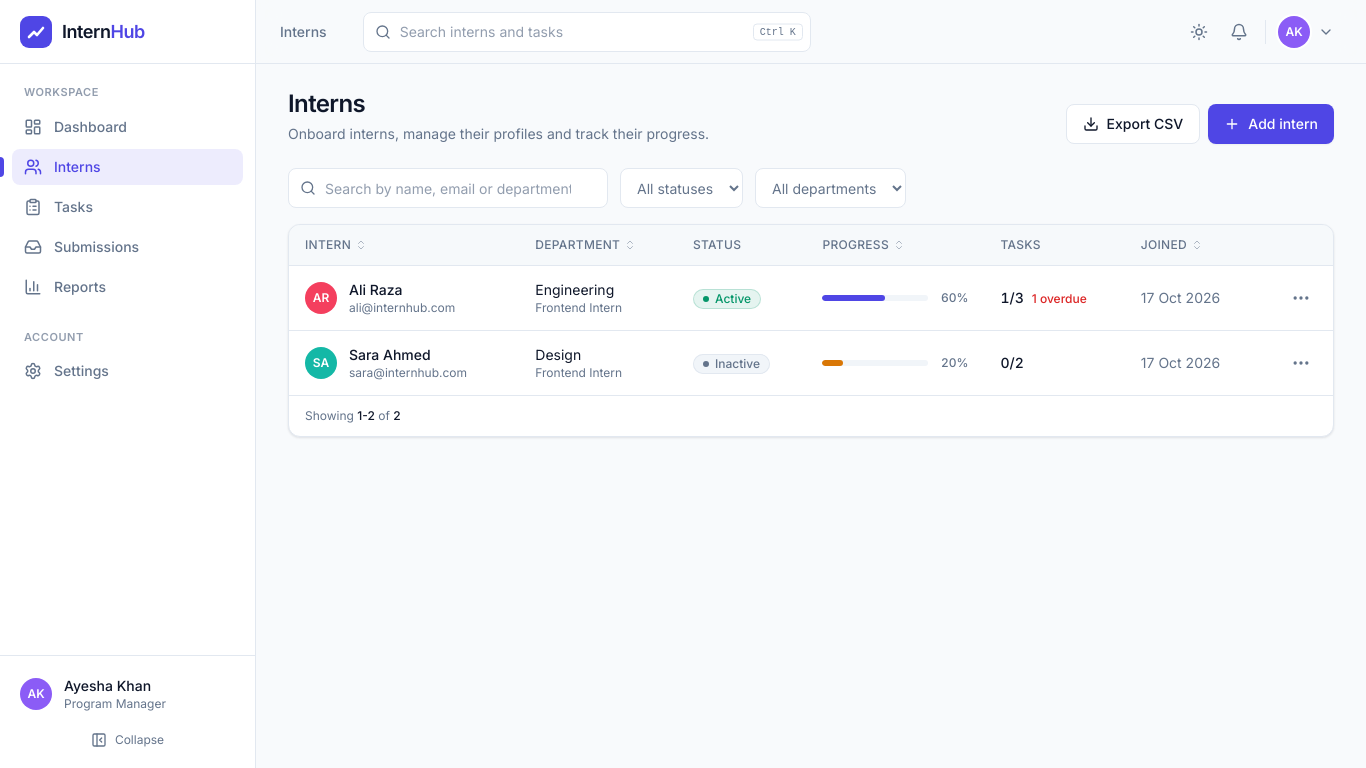
Scenario: interns page › validates the add-intern form, creates the intern and reveals the temporary password once
Click the button "Add intern": point(1271, 124) [1208,104,1334,144]
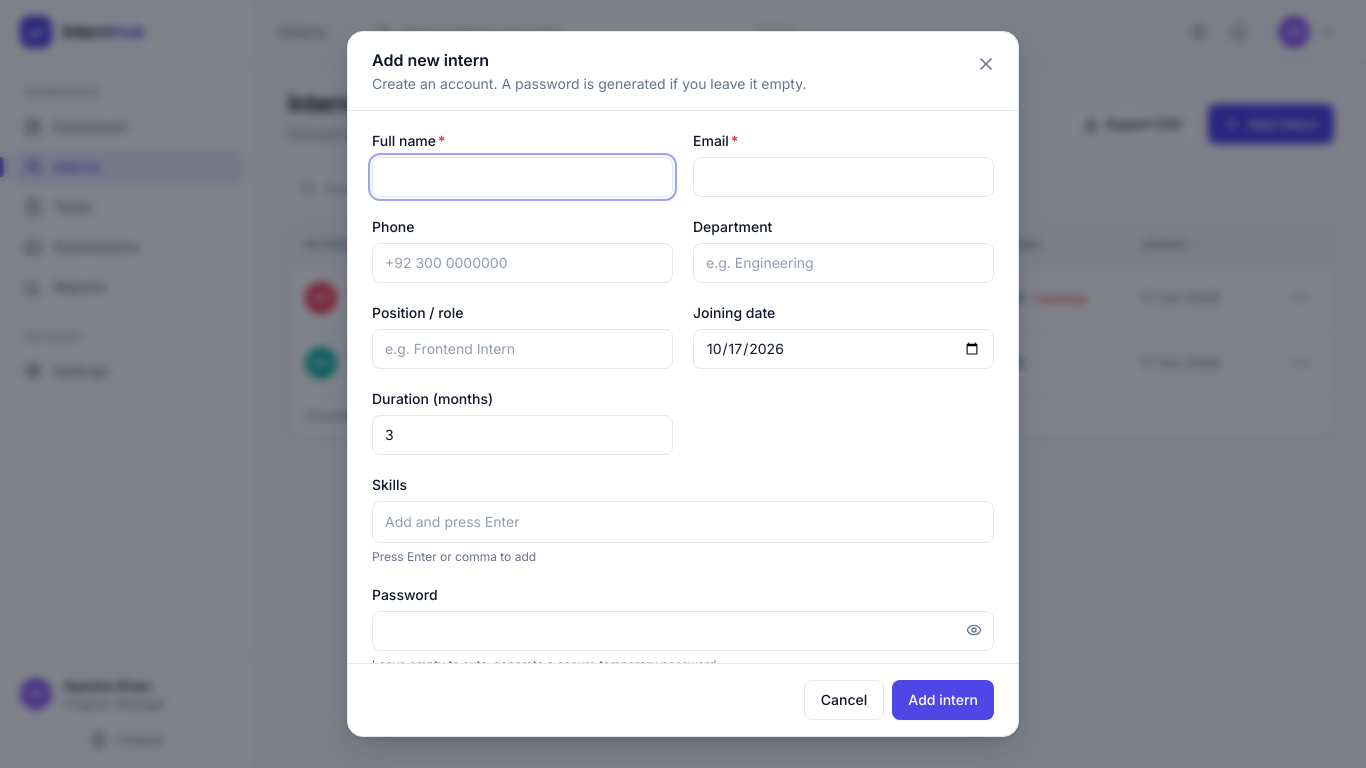
Click the button "Add intern": point(943, 700) [892,680,994,720]
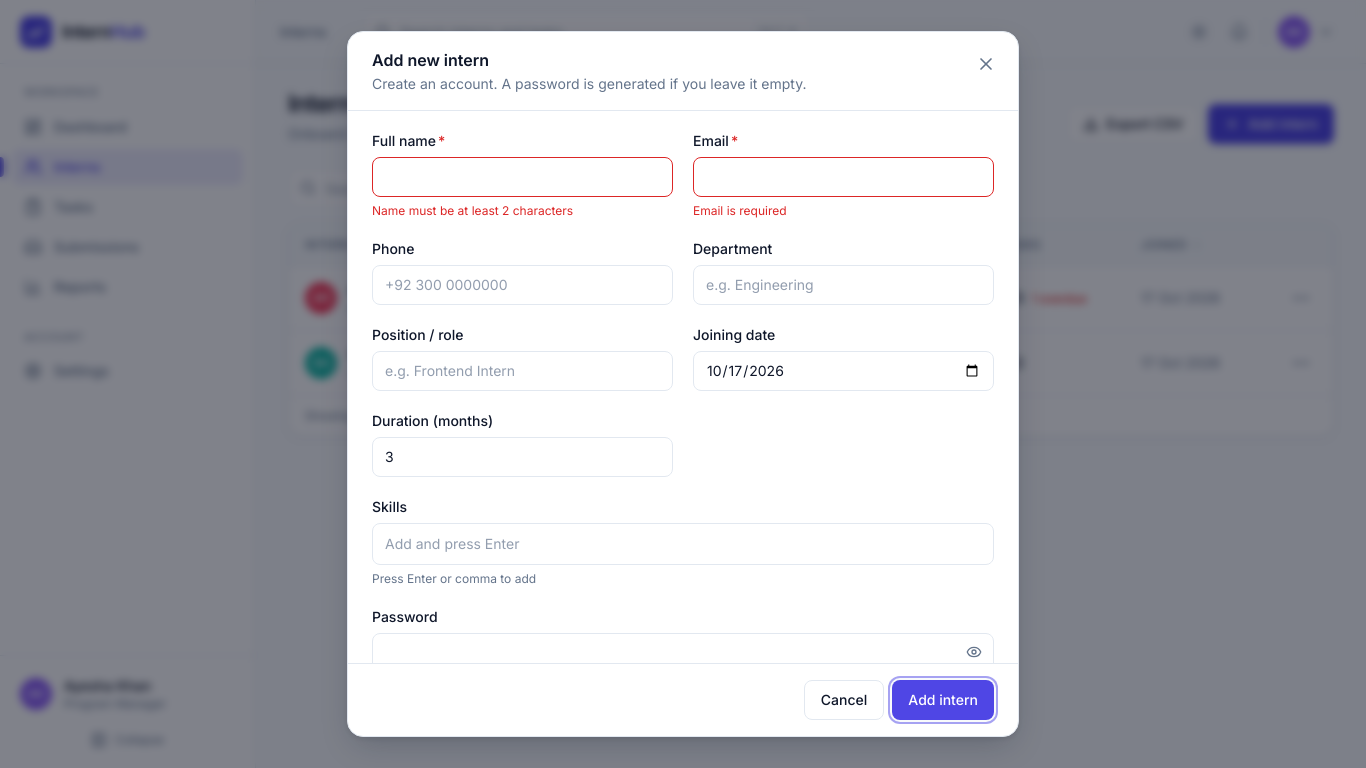
Now the text "Name must be at least 2 characters" is shown, box [372,203,573,218]
Now the text "Email is required" is shown, box [693,203,787,218]
In the field labelled "Full name*": point(522, 177) [372,157,673,197], type "Zed Khan"
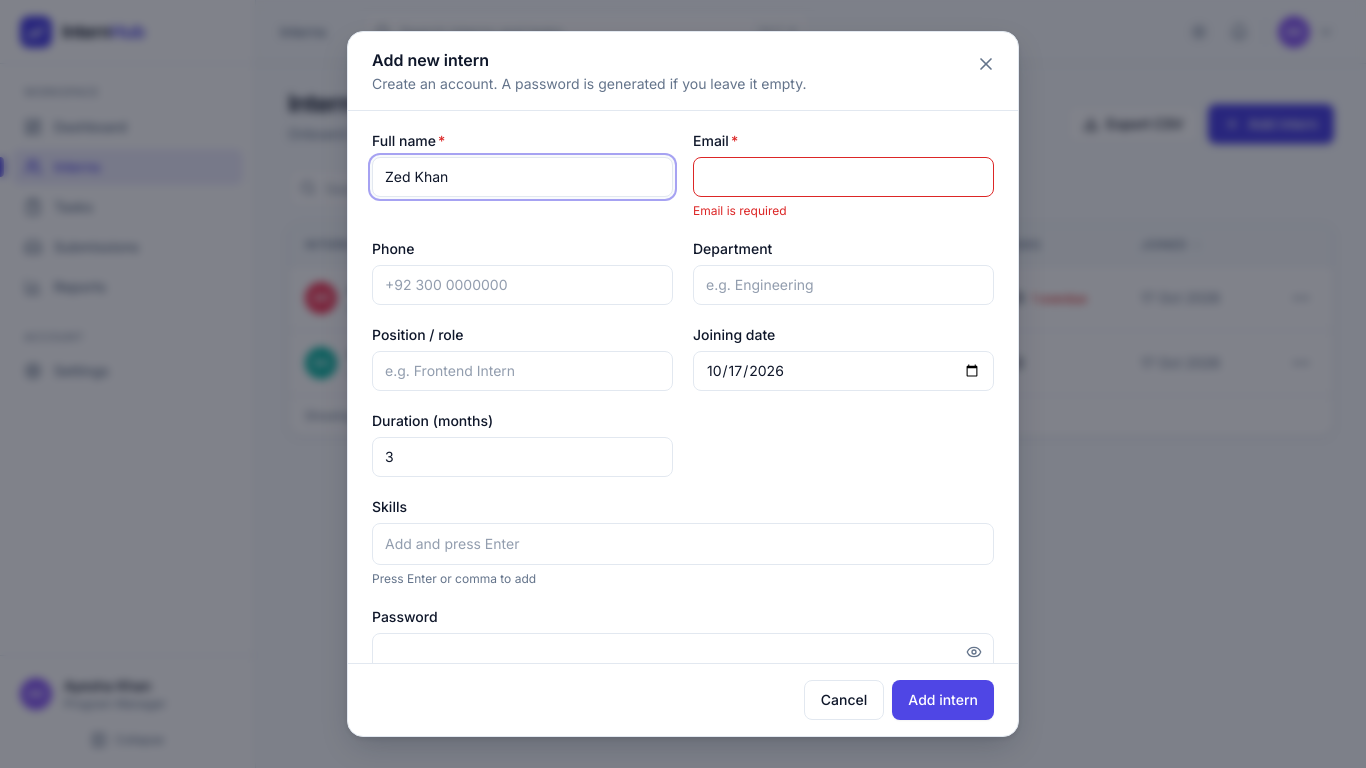
In the field labelled "Email*": point(844, 177) [693,157,994,197], type "zed@internhub.com"
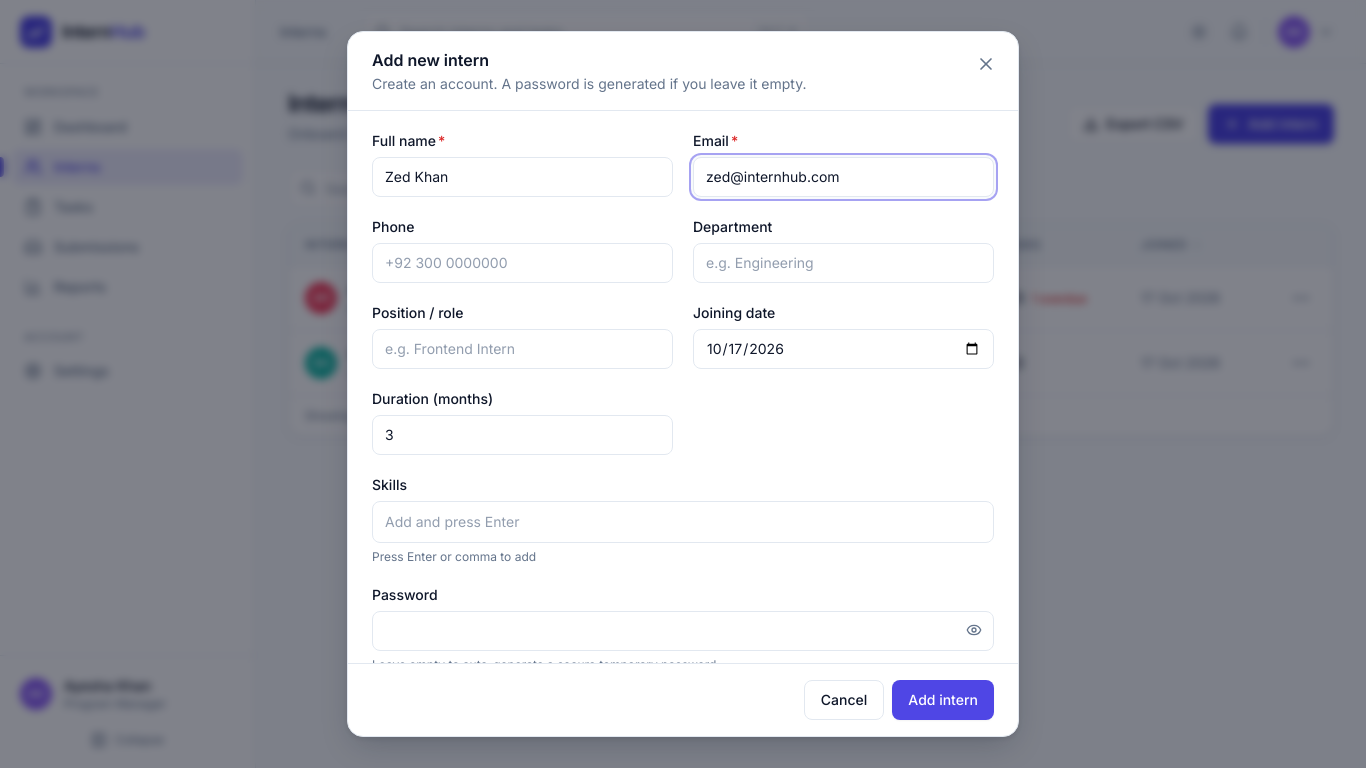
In the field labelled "Skills": point(683, 522) [379,508,987,536], type "Node"
Then press Enter
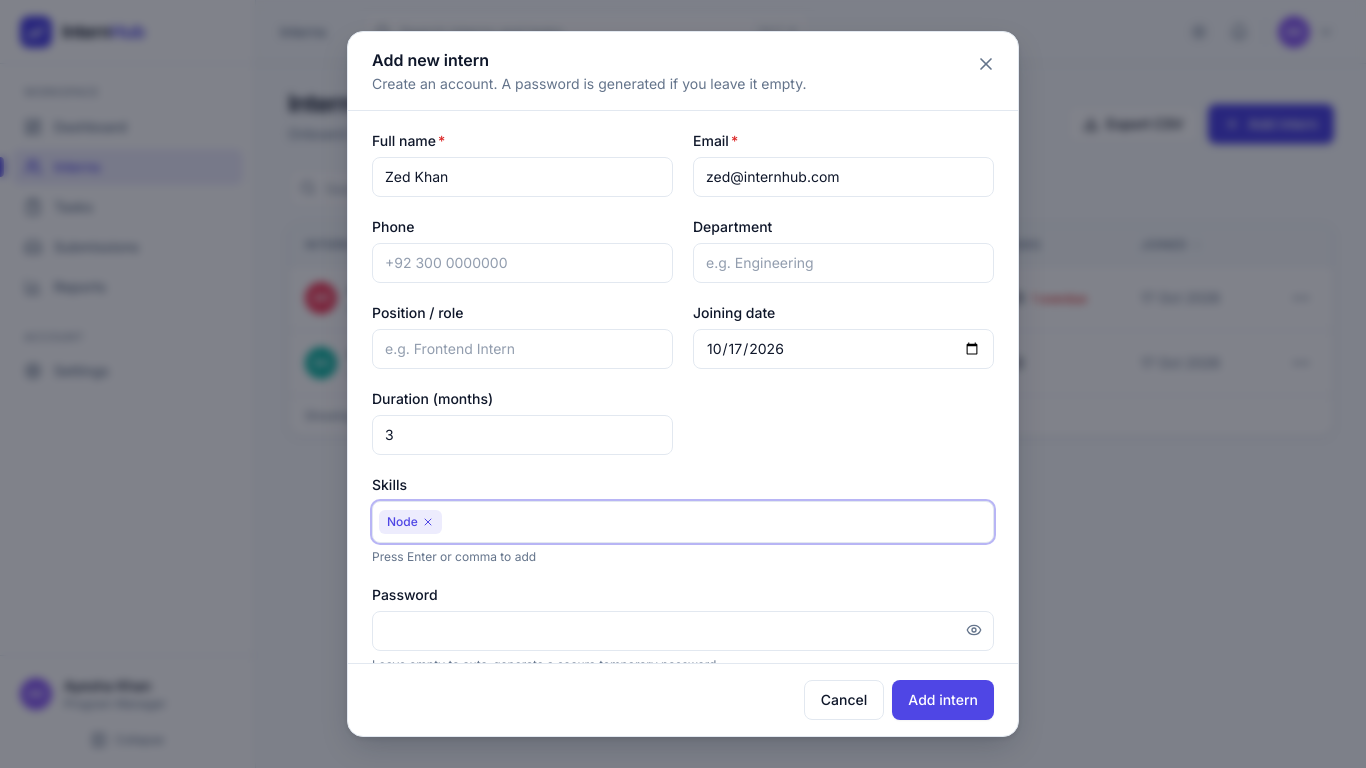
Click the button "Add intern": point(943, 700) [892,680,994,720]
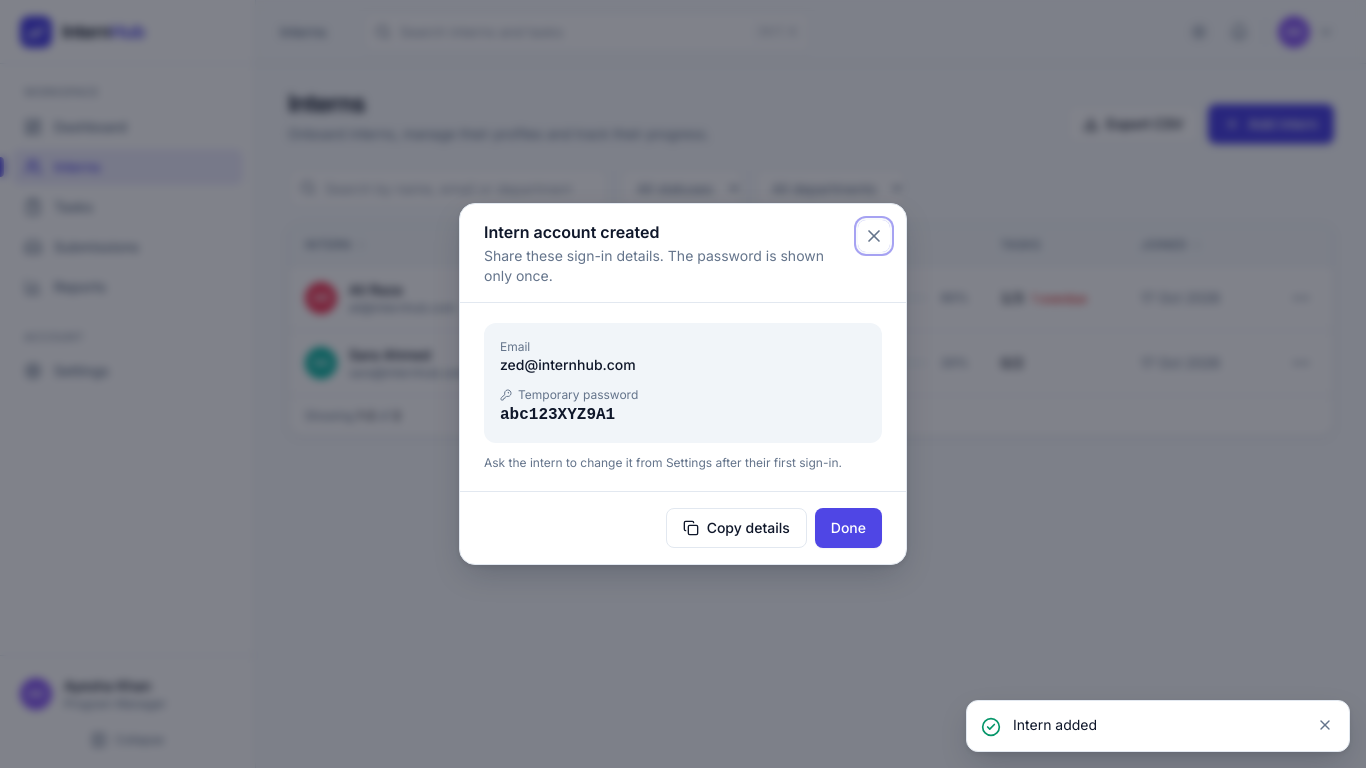
Now the text "abc123XYZ9A1" is shown, box [500,406,615,424]
Now the text "shown only once" is shown, box [484,247,824,284]
